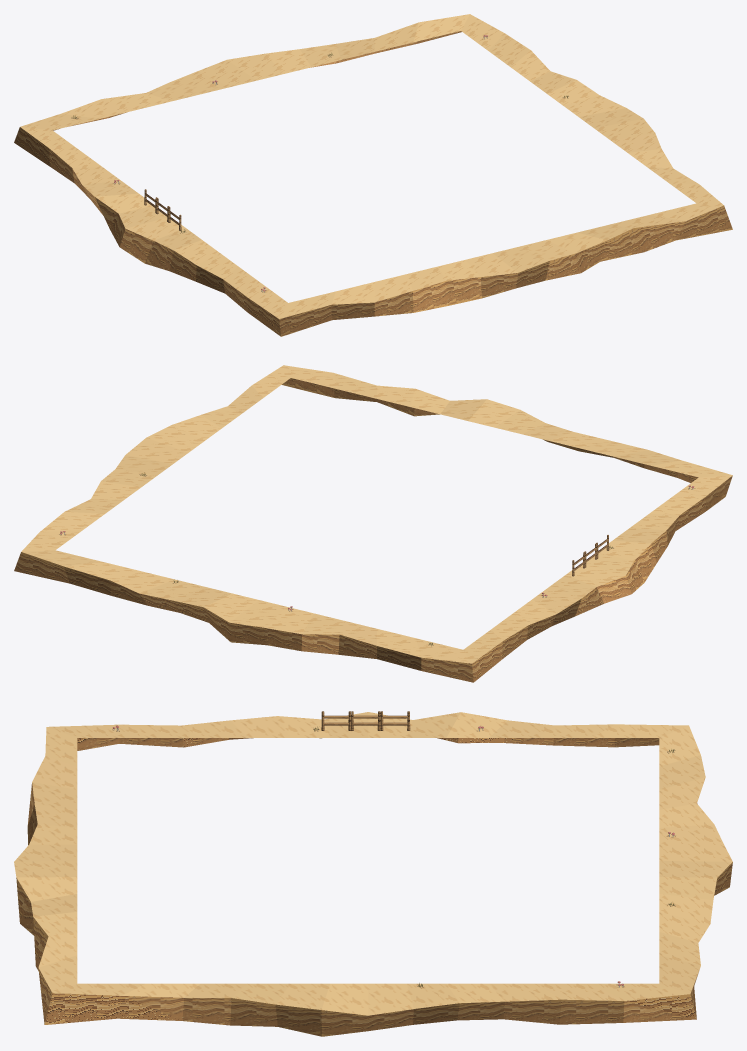
The model's file is entorno_18.glb.
3 views of the same model, one above another, from view 1: azimuth 30°, elevation 25°; view 2: azimuth 150°, elevation 25°; view 3: azimuth 270°, elevation 25° (orthographic). The views are drawn at different scales.
Parts seen in each view (by area): view 1: deserto_entorno_18; view 2: deserto_entorno_18; view 3: deserto_entorno_18.
Part boxes in pixels (left/top/right/bottom): deserto_entorno_18: left=14, top=14, right=732, bottom=336; deserto_entorno_18: left=14, top=365, right=732, bottom=682; deserto_entorno_18: left=14, top=711, right=732, bottom=1036.
Size of the model in its own units: 22.6 by 1.69 by 22.49.
7 materials, 5 textured.
